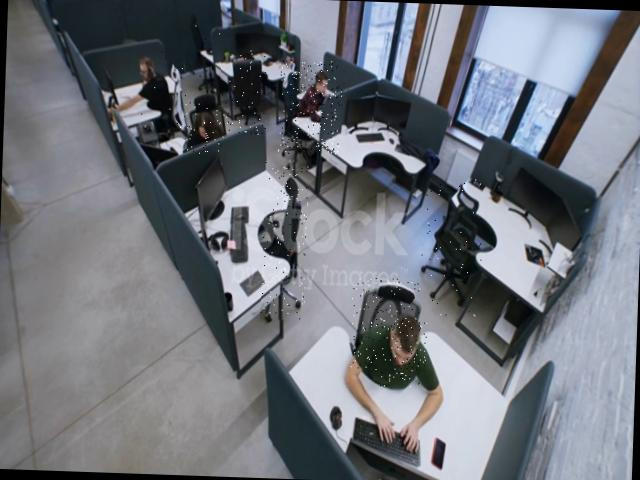empty chair: (420, 174, 484, 318), (261, 162, 310, 320), (227, 48, 269, 139), (186, 9, 223, 102)
occupiedchair: (349, 277, 427, 376), (278, 60, 343, 156), (128, 45, 190, 138), (183, 88, 232, 154)
